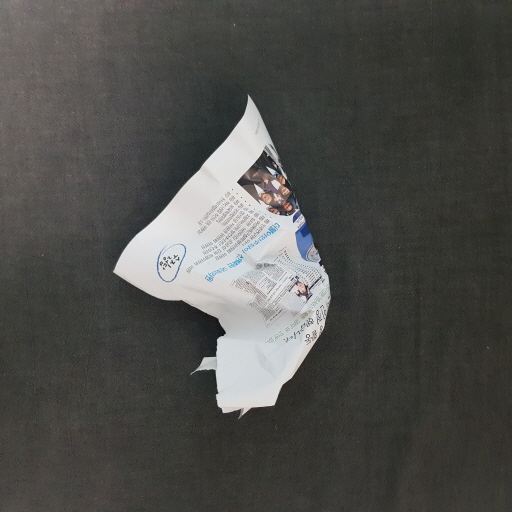Paper_3: (117, 93, 349, 414)
